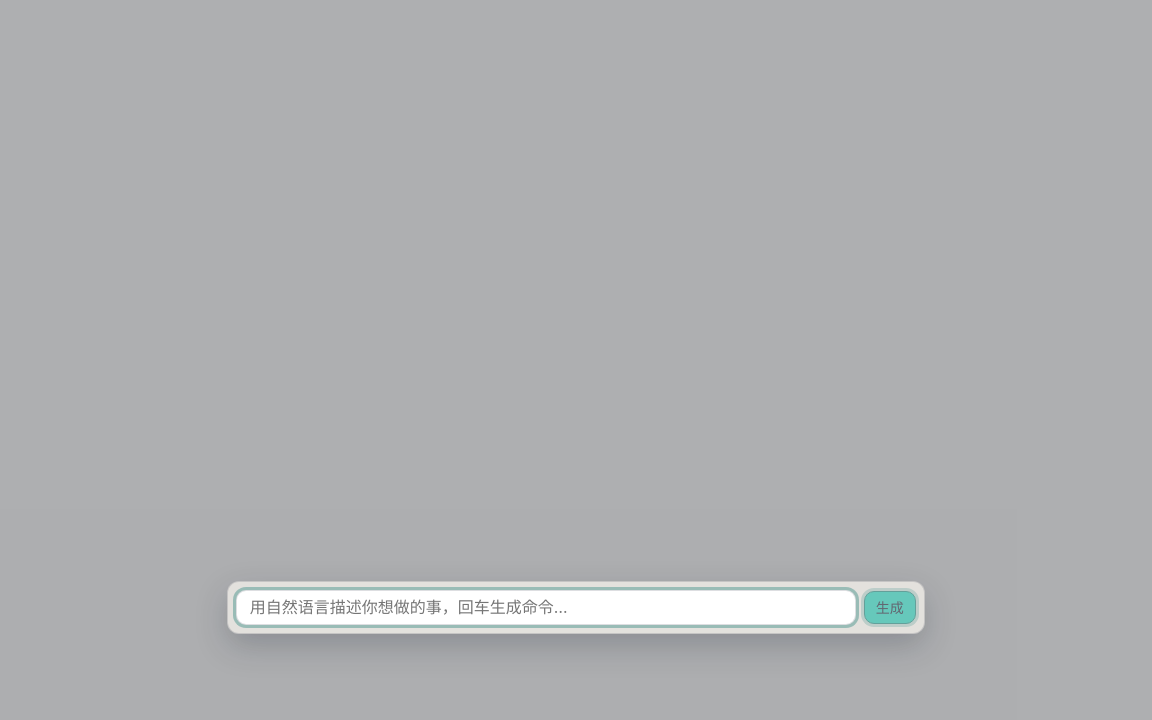
Scenario: live 流（input → submit → done 渲染） › 输入自然语言 → 生成 → 命令 + 安全徽标出现
Step 1. Type "列出运行中的容器" into the field with test id "nl2cmd-input" → (546, 607), box [236, 590, 856, 625]
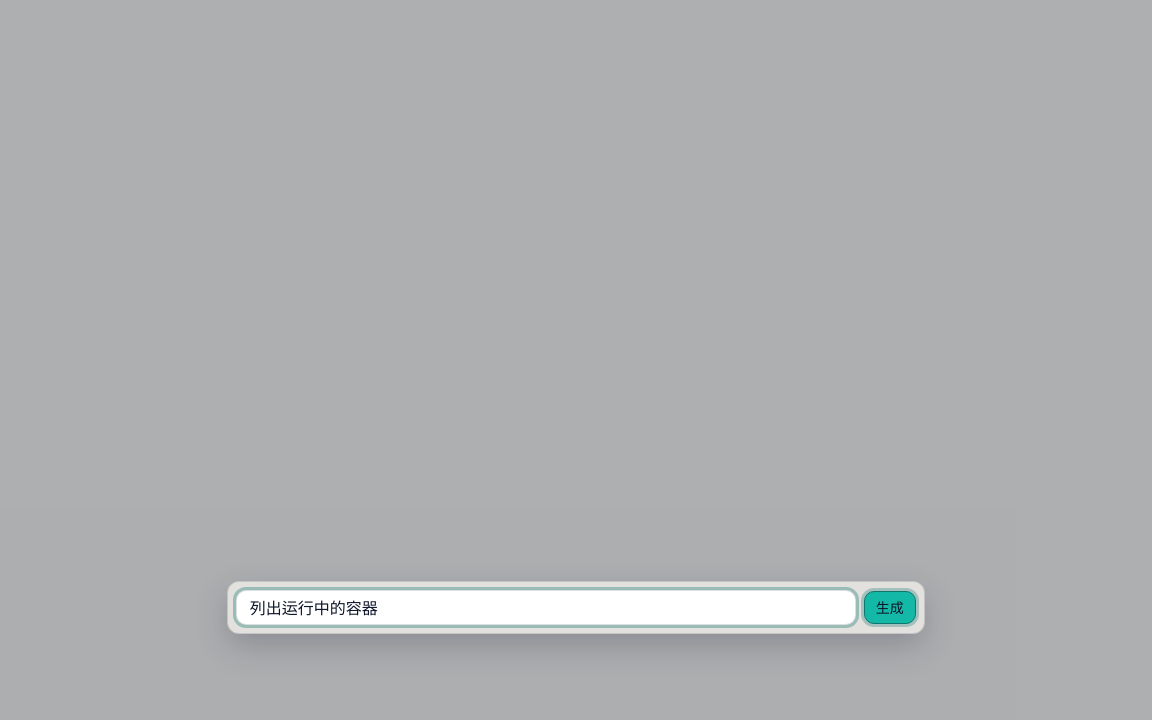
Step 2. Click the button with test id "nl2cmd-run" → (890, 607), box [864, 591, 916, 624]
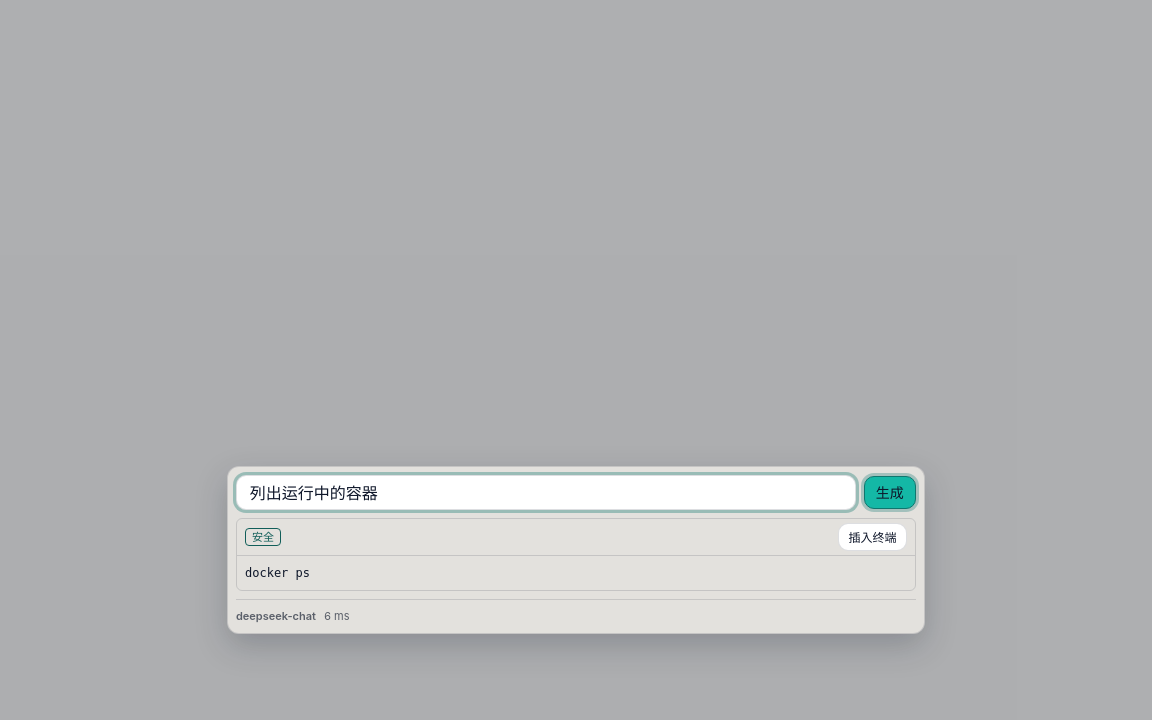
Expected: the button with test id "nl2cmd-run" is shown, [864, 476, 916, 509]
Expected: the element with test id "ai-code-text" reads "docker ps", [245, 566, 310, 580]
Expected: the text with test id "ai-code-level" reads "安全", [252, 530, 274, 544]
